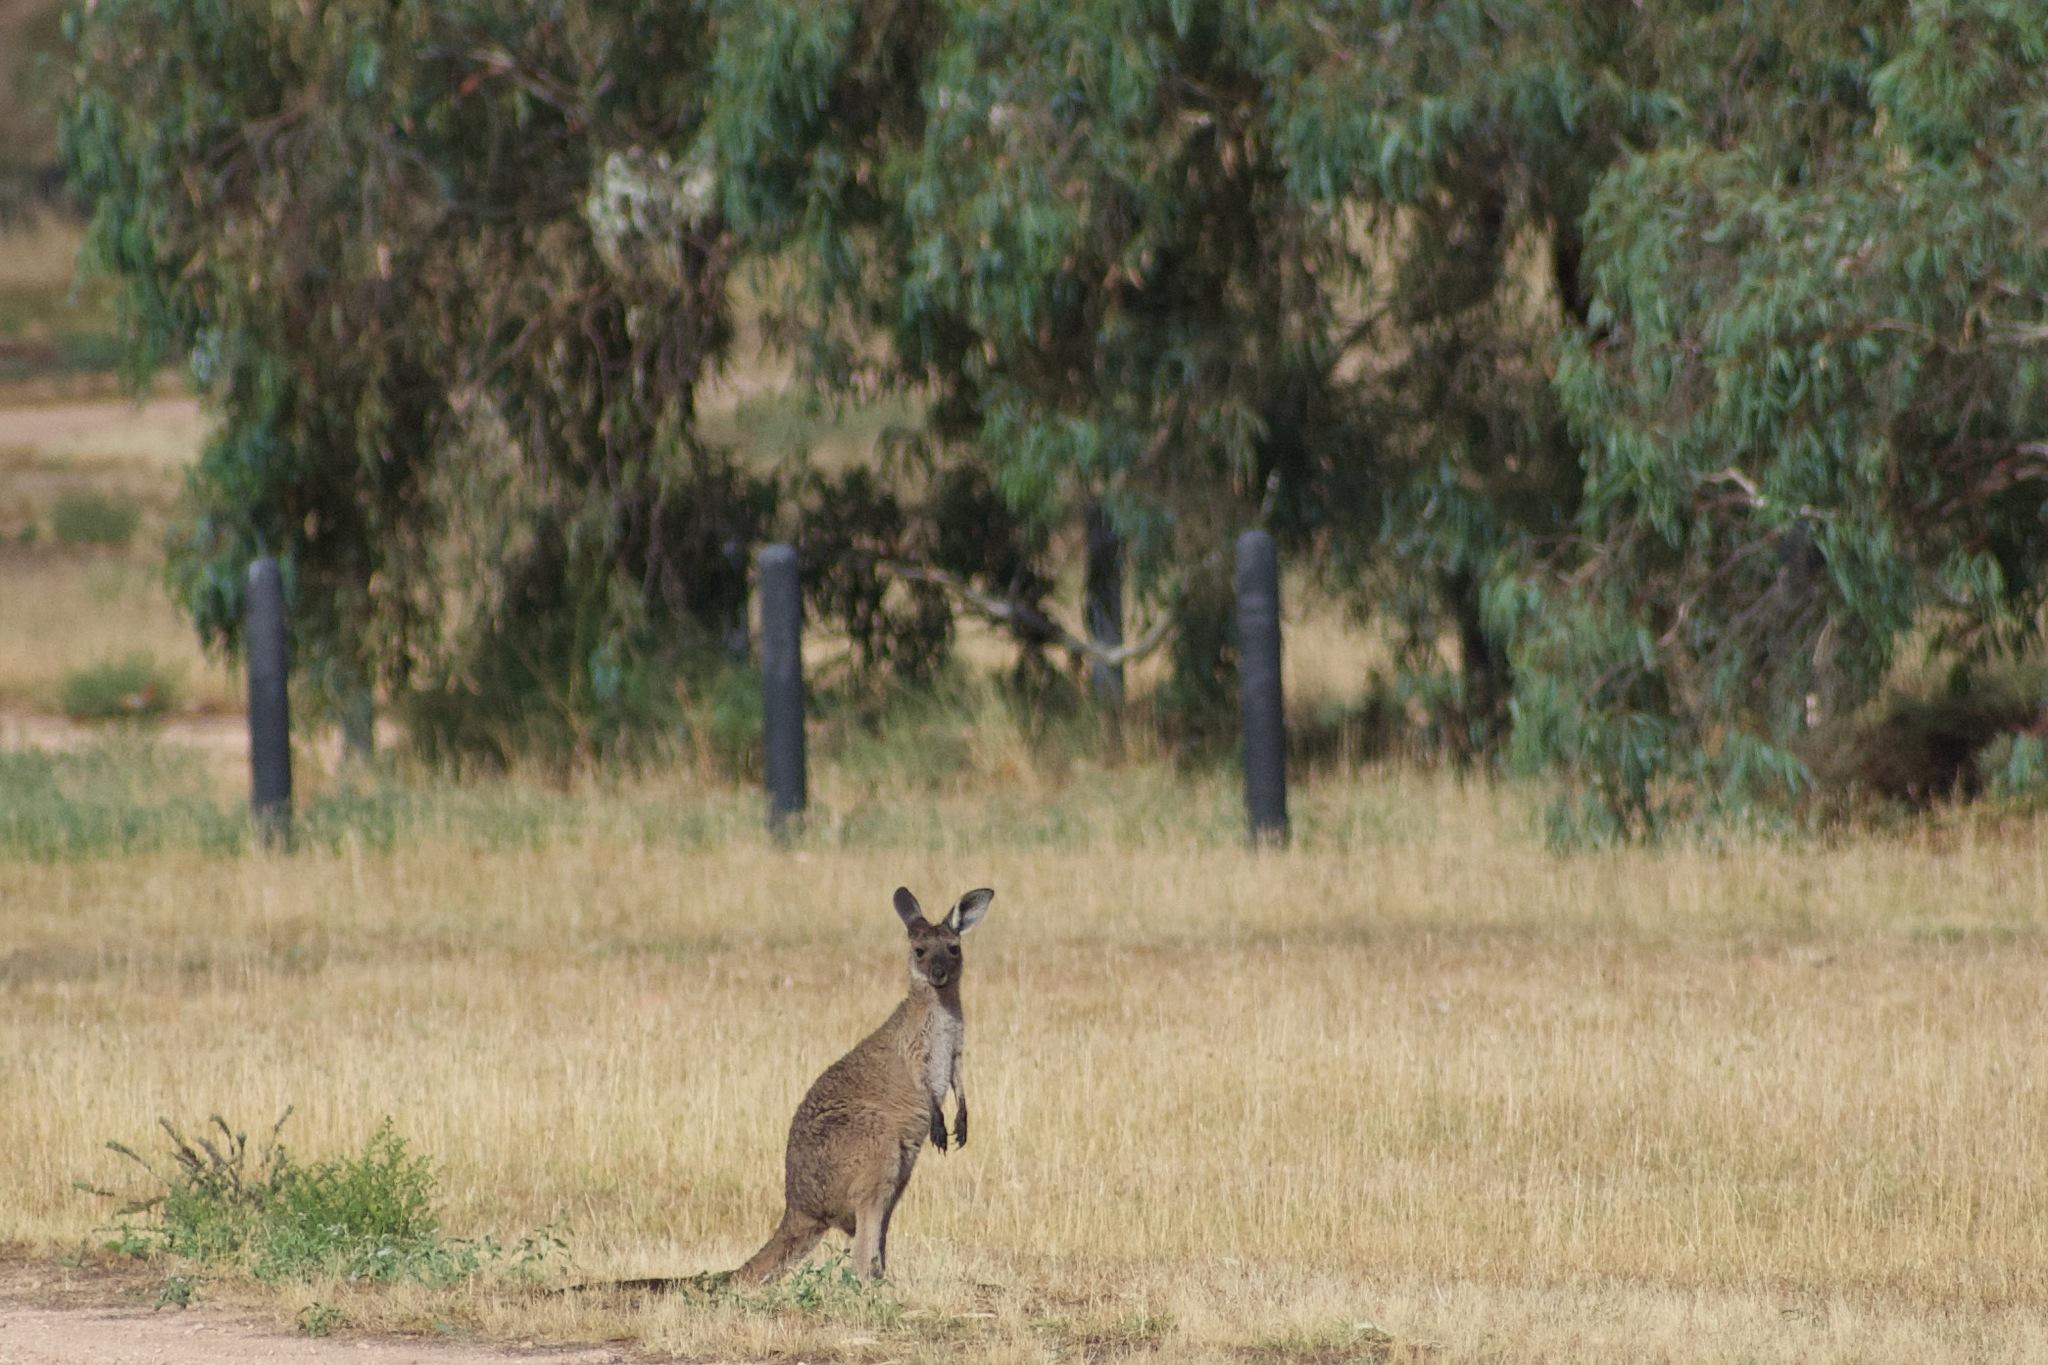Western grey kangaroo: (562, 887, 999, 1313)
